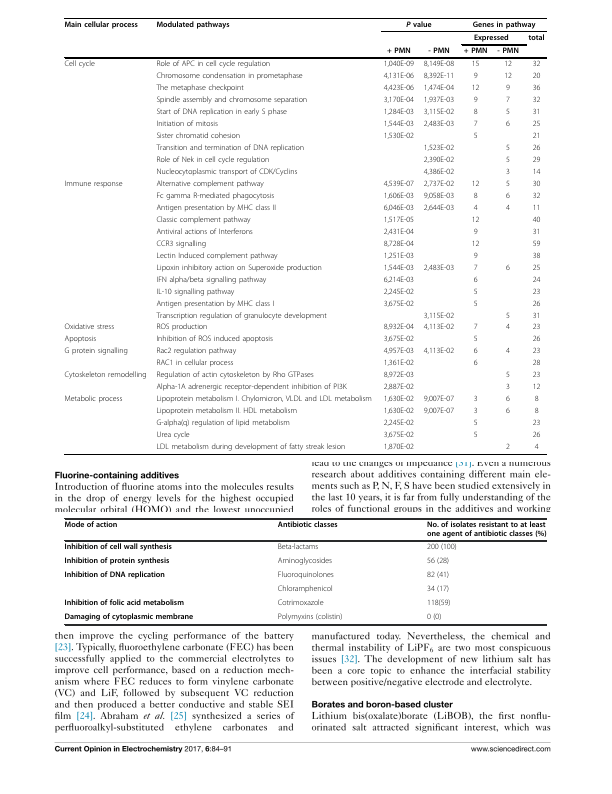borderless: (63, 16, 547, 454), (63, 517, 546, 624)
cell: (155, 394, 373, 404), (426, 521, 547, 539), (155, 382, 348, 392), (155, 442, 346, 452), (155, 370, 315, 380), (155, 311, 328, 320), (155, 95, 308, 105), (155, 263, 323, 272), (155, 143, 305, 153), (155, 167, 298, 177), (155, 406, 298, 416), (155, 418, 291, 428), (155, 72, 304, 81), (155, 107, 288, 117), (64, 613, 194, 623), (155, 203, 277, 213), (64, 599, 185, 609), (155, 191, 275, 201), (155, 155, 270, 165), (155, 251, 278, 260), (155, 179, 265, 189), (64, 543, 173, 553), (155, 299, 275, 308), (155, 335, 274, 344), (64, 557, 170, 567), (155, 60, 271, 69), (64, 571, 166, 581), (155, 275, 267, 284), (155, 215, 251, 225), (155, 83, 245, 93), (155, 227, 254, 236), (155, 131, 241, 141), (63, 370, 148, 380), (155, 346, 237, 356), (155, 358, 234, 368), (155, 287, 235, 296), (64, 20, 139, 29), (155, 20, 230, 29), (277, 613, 343, 623), (63, 346, 129, 356), (155, 119, 219, 129), (63, 179, 123, 189), (63, 394, 123, 404), (277, 571, 335, 581), (472, 20, 536, 29), (277, 557, 333, 567), (277, 585, 333, 595), (277, 521, 339, 530), (64, 521, 118, 530), (155, 323, 208, 332), (277, 599, 324, 609), (155, 239, 207, 248), (63, 323, 115, 332), (277, 543, 319, 553), (473, 33, 510, 43), (155, 430, 191, 440), (383, 83, 415, 93), (423, 83, 455, 93), (383, 95, 415, 105), (423, 95, 455, 105), (383, 107, 415, 117), (423, 107, 455, 117), (383, 119, 415, 129), (423, 119, 455, 129), (383, 131, 415, 141), (423, 143, 455, 153), (423, 155, 455, 165), (423, 167, 455, 177), (383, 179, 415, 189), (423, 179, 455, 189), (383, 191, 415, 201), (423, 191, 455, 201), (383, 203, 415, 213), (423, 203, 455, 213), (383, 215, 415, 225), (383, 346, 415, 356), (423, 346, 455, 356), (383, 358, 415, 368), (383, 370, 415, 380), (383, 382, 415, 392), (383, 394, 415, 404), (423, 394, 455, 404), (383, 406, 415, 416), (423, 406, 455, 416), (383, 418, 415, 428), (383, 430, 415, 440), (383, 442, 415, 452), (426, 543, 457, 553), (63, 335, 97, 344), (63, 60, 96, 69), (383, 60, 415, 69), (423, 60, 455, 69), (383, 72, 415, 81), (423, 72, 455, 81), (383, 227, 415, 236), (383, 239, 415, 248), (383, 251, 415, 260), (383, 263, 415, 272), (423, 263, 455, 272), (383, 275, 415, 284), (383, 287, 415, 296), (383, 299, 415, 308), (423, 311, 455, 320), (383, 323, 415, 332), (423, 323, 455, 332), (383, 335, 415, 344), (386, 46, 412, 56), (426, 599, 451, 609), (463, 46, 488, 56), (405, 20, 432, 29), (426, 557, 450, 567), (426, 571, 450, 581), (426, 585, 450, 595), (496, 46, 520, 56), (427, 46, 450, 56), (528, 33, 545, 43), (426, 613, 442, 623), (503, 60, 513, 69), (503, 72, 513, 81), (471, 83, 480, 93), (532, 83, 541, 93), (532, 95, 541, 105), (532, 107, 541, 117), (532, 119, 541, 129), (532, 131, 541, 141), (532, 143, 541, 153), (532, 155, 541, 165), (532, 167, 541, 177), (471, 179, 480, 189), (532, 179, 541, 189), (532, 191, 541, 201), (532, 203, 541, 213), (471, 215, 480, 225), (532, 215, 541, 225), (532, 346, 541, 356), (532, 358, 541, 368), (532, 370, 541, 380), (532, 382, 541, 392), (532, 418, 541, 428), (532, 430, 541, 440), (471, 60, 480, 69), (532, 60, 541, 69), (532, 72, 541, 81), (532, 227, 541, 236), (471, 239, 480, 248), (532, 239, 541, 248), (532, 251, 541, 260), (532, 263, 541, 272), (532, 275, 541, 284), (532, 287, 541, 296), (532, 299, 541, 308), (532, 311, 541, 320), (532, 323, 541, 332), (532, 335, 541, 344), (505, 83, 511, 93), (505, 95, 511, 105), (505, 107, 511, 117), (505, 119, 511, 129), (505, 143, 511, 153), (505, 155, 511, 165), (505, 167, 511, 177), (505, 179, 511, 189), (505, 191, 511, 201), (505, 203, 511, 213), (505, 346, 511, 356), (505, 370, 511, 380), (505, 382, 511, 392), (505, 394, 511, 404), (505, 406, 511, 416), (505, 442, 511, 452), (505, 263, 511, 272), (505, 311, 511, 320), (505, 323, 511, 332), (473, 95, 478, 105), (473, 107, 478, 117), (473, 119, 478, 129), (473, 131, 478, 141), (473, 191, 478, 201), (473, 203, 478, 213), (473, 346, 478, 356), (473, 358, 478, 368), (473, 394, 478, 404), (534, 394, 539, 404), (473, 406, 478, 416), (534, 406, 539, 416), (473, 418, 478, 428), (473, 430, 478, 440), (534, 442, 539, 452), (473, 72, 478, 81), (473, 227, 478, 236), (473, 251, 478, 260), (473, 263, 478, 272), (473, 275, 478, 284), (473, 287, 478, 296), (473, 299, 478, 308), (473, 323, 478, 332), (473, 335, 478, 344)
